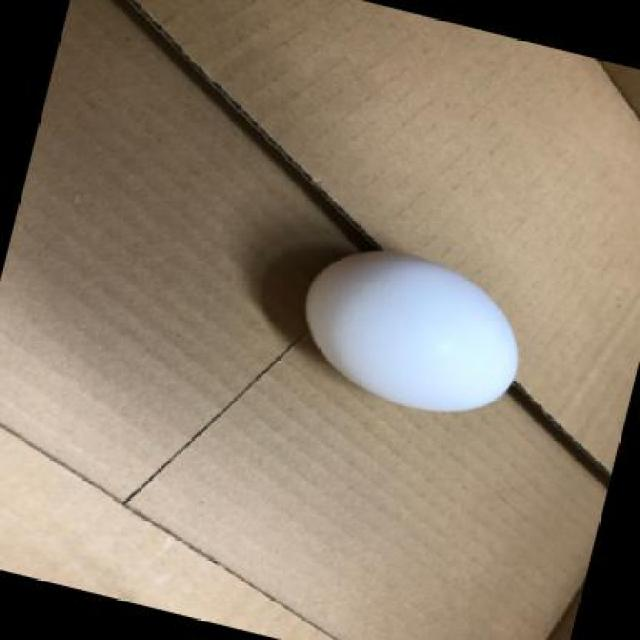egg: (300, 243, 527, 412)
